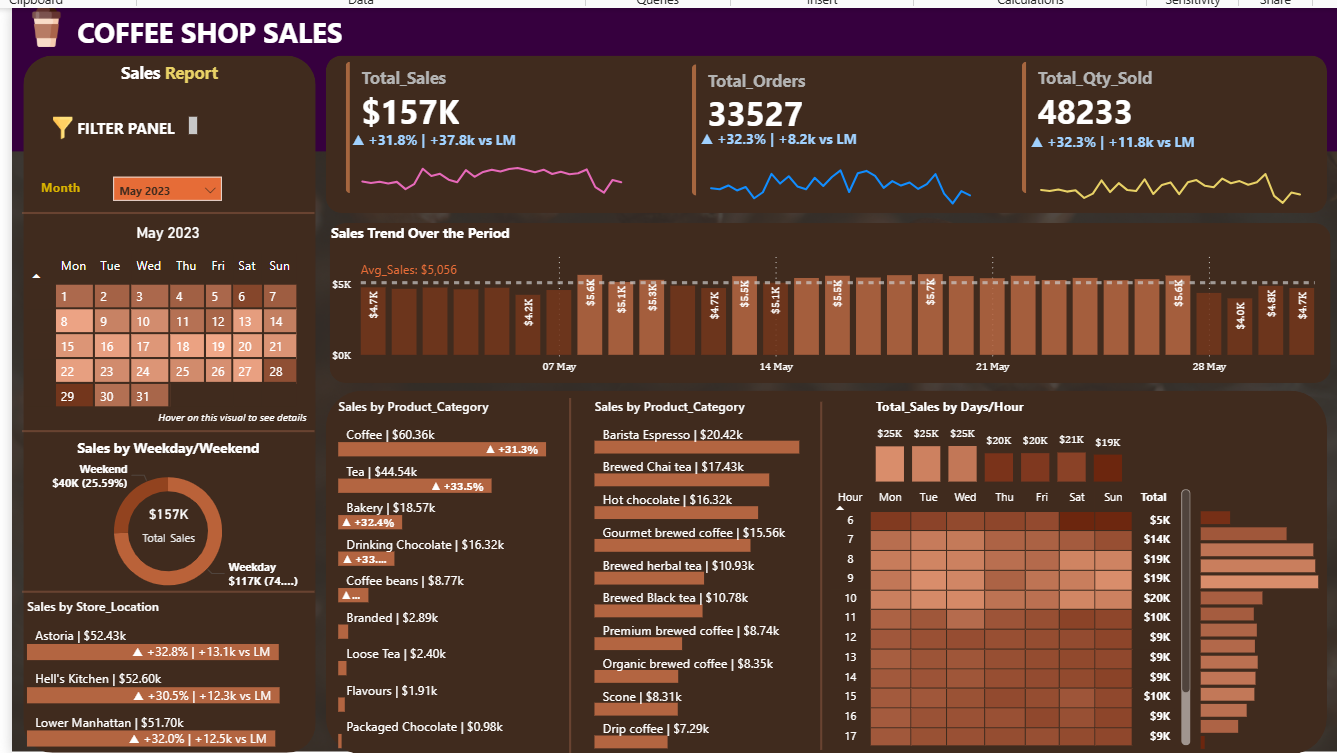

The page's visual inventory and layout, read from the dashboard file:
{"tool":"powerbi","page":{"name":"Coffee shop sales dashboard","canvas":[1280,720],"ordinal":0},"visuals":[{"type":"shape","box":[0,0,1280,138.8],"z":0},{"type":"shape","box":[0,45.8,282.3,673.2],"z":1000},{"type":"shape","box":[302.8,45.8,966.4,152],"z":2000},{"type":"textbox","box":[57.9,0,287.1,45.8],"z":3000},{"type":"cardVisual","fields":{"Data":["Measure_Table.Total_Sales"]},"box":[305.2,35,300.4,161.7],"z":4000,"group":"g1"},{"type":"cardVisual","fields":{"Data":["Measure_Table.Total_Qty_Sold"]},"box":[957.9,35,300.4,161.7],"z":4000,"group":"g3"},{"type":"cardVisual","fields":{"Data":["Measure_Table.Total_Orders"]},"box":[639.4,37.4,300.4,161.7],"z":4000,"group":"g2"},{"type":"slicer","fields":{"Values":["DATE_TABLE.Month Year"]},"box":[92.9,158,114.6,33.8],"z":4000},{"type":"group","id":"g1","title":"Group 1","box":[305.2,35,300.4,162.9],"z":5000},{"type":"lineChart","fields":{"Category":["DATE_TABLE.Date.Variation.Date Hierarchy.Year","DATE_TABLE.Date.Variation.Date Hierarchy.Quarter","DATE_TABLE.Date.Variation.Date Hierarchy.Month","DATE_TABLE.Date.Variation.Date Hierarchy.Day"],"Y":["Measure_Table.Total_Orders"]},"box":[659.8,116.6,279.9,78.4],"z":5001,"group":"g2"},{"type":"lineChart","fields":{"Y":["Measure_Table.Total_Sales"],"Category":["DATE_TABLE.Date.Variation.Date Hierarchy.Year","DATE_TABLE.Date.Variation.Date Hierarchy.Quarter","DATE_TABLE.Date.Variation.Date Hierarchy.Month","DATE_TABLE.Date.Variation.Date Hierarchy.Day"]},"box":[323.5,118.4,279.9,79.6],"z":5001,"group":"g1"},{"type":"lineChart","fields":{"Category":["DATE_TABLE.Date.Variation.Date Hierarchy.Year","DATE_TABLE.Date.Variation.Date Hierarchy.Quarter","DATE_TABLE.Date.Variation.Date Hierarchy.Month","DATE_TABLE.Date.Variation.Date Hierarchy.Day"],"Y":["Measure_Table.Total_Qty_Sold"]},"box":[978.4,119.5,279.9,78.4],"z":5001,"group":"g3"},{"type":"group","id":"g2","title":"Group 1","box":[639.4,37.4,300.4,161.7],"z":6000},{"type":"group","id":"g3","title":"Group 1","box":[957.9,35,300.4,162.9],"z":7000},{"type":"pivotTable","fields":{"Columns":["DATE_TABLE.Day_Name"],"Values":["Min(DATE_TABLE.Day_number)"],"Rows":["DATE_TABLE.Week_Num"]},"box":[9.7,231.6,282.3,183.4],"z":8000},{"type":"card","fields":{"Values":["Min(DATE_TABLE.Month Year)"]},"box":[103.8,203.9,94.1,27.7],"z":9000},{"type":"card","fields":{"Values":["Measure_Table.Foot_Note"]},"box":[115.8,382.4,194.2,26.5],"z":10000},{"type":"shape","box":[9.7,401.7,282.3,13.3],"z":11000},{"type":"shape","box":[9.7,191.8,282.3,12.1],"z":12000},{"type":"donutChart","title":"Sales by Weekday/Weekend","fields":{"Category":["DATE_TABLE.Weekday/Weekend"],"Y":["Measure_Table.Total_Sales"]},"box":[9.7,415,282.3,162.9],"z":13000},{"type":"card","fields":{"Values":["Measure_Table.Total_Sales"]},"box":[111,472.9,80.8,48.3],"z":14000},{"type":"shape","box":[9.7,557.4,282.3,12.1],"z":15000},{"type":"clusteredBarChart","title":"Sales by Store_Location","fields":{"Category":["Transactions.store_location"],"Y":["Measure_Table.Place_holder","Measure_Table.Total_Sales"]},"box":[9.7,569.4,282.3,150.8],"z":16000},{"type":"shape","box":[306.4,207.5,966.4,154.4],"z":17000},{"type":"columnChart","title":"Sales Trend Over the Period","fields":{"Category":["Transactions.transaction_date"],"Y":["Measure_Table.Total_Sales"]},"box":[302.8,207.5,965.2,154.4],"z":18000},{"type":"shape","box":[302.8,369.2,966.4,351.1],"z":19000},{"type":"clusteredBarChart","title":"Sales by Product_Category","fields":{"Y":["Measure_Table.Place_holder","Measure_Table.Total_Sales"],"Category":["Transactions.product_category"]},"box":[310.1,376.4,242.5,343.8],"z":20000},{"type":"shape","box":[520,376.4,37.4,343.8],"z":21000},{"type":"shape","box":[763,380.1,37,336.2],"z":22000},{"type":"clusteredBarChart","title":"Sales by Product_Category","fields":{"Y":["Measure_Table.Place_holder","Measure_Table.Total_Sales"],"Category":["Transactions.product_type"]},"box":[557.4,376.4,242.5,343.8],"z":23000},{"type":"pivotTable","fields":{"Rows":["Transactions.Hour"],"Columns":["DATE_TABLE.Day_Name"],"Values":["Measure_Table.Total_Sales"]},"box":[785.4,459.7,357.1,257],"z":23001},{"type":"barChart","fields":{"Category":["Transactions.Hour"],"Y":["Measure_Table.Total_Sales"]},"box":[1142.5,472.9,125.5,247.3],"z":23002},{"type":"columnChart","title":"Total_Sales by Days/Hour","fields":{"Y":["Measure_Table.Total_Sales"],"Category":["DATE_TABLE.Day_Name"]},"box":[828.8,376.4,248.5,86.9],"z":23003},{"type":"textbox","box":[22.9,158,70,33.8],"z":23004},{"type":"textbox","box":[90.5,45.8,123.1,38.6],"z":23005},{"type":"textbox","box":[57.9,100.1,125.5,26.5],"z":23006},{"type":"image","box":[22.9,105,51.9,21.7],"z":23007},{"type":"image","box":[0,0,66.4,37.4],"z":23008}]}

Visuals, with their boxes on the page's 1280x720 design canvas (x1, y1, x2, y2). These are canvas units, not pixel positions in the 1337x753 screenshot, which may show the page scaled, cropped or inside an application window:
shape: crop(0, 0, 1280, 139)
shape: crop(0, 46, 282, 719)
shape: crop(303, 46, 1269, 198)
textbox: crop(58, 0, 345, 46)
cardVisual - Measure_Table.Total_Sales: crop(305, 35, 606, 197)
cardVisual - Measure_Table.Total_Qty_Sold: crop(958, 35, 1258, 197)
cardVisual - Measure_Table.Total_Orders: crop(639, 37, 940, 199)
slicer - DATE_TABLE.Month Year: crop(93, 158, 208, 192)
"Group 1" group: crop(305, 35, 606, 198)
lineChart - DATE_TABLE.Date.Variation.Date Hierarchy.Year x DATE_TABLE.Date.Variation.Date Hierarchy.Quarter: crop(660, 117, 940, 195)
lineChart - Measure_Table.Total_Sales x DATE_TABLE.Date.Variation.Date Hierarchy.Year: crop(324, 118, 603, 198)
lineChart - DATE_TABLE.Date.Variation.Date Hierarchy.Year x DATE_TABLE.Date.Variation.Date Hierarchy.Quarter: crop(978, 120, 1258, 198)
"Group 1" group: crop(639, 37, 940, 199)
"Group 1" group: crop(958, 35, 1258, 198)
pivotTable - DATE_TABLE.Day_Name x Min(DATE_TABLE.Day_number): crop(10, 232, 292, 415)
card - Min(DATE_TABLE.Month Year): crop(104, 204, 198, 232)
card - Measure_Table.Foot_Note: crop(116, 382, 310, 409)
shape: crop(10, 402, 292, 415)
shape: crop(10, 192, 292, 204)
"Sales by Weekday/Weekend" donutChart: crop(10, 415, 292, 578)
card - Measure_Table.Total_Sales: crop(111, 473, 192, 521)
shape: crop(10, 557, 292, 570)
"Sales by Store_Location" clusteredBarChart: crop(10, 569, 292, 720)
shape: crop(306, 208, 1273, 362)
"Sales Trend Over the Period" columnChart: crop(303, 208, 1268, 362)
shape: crop(303, 369, 1269, 720)
"Sales by Product_Category" clusteredBarChart: crop(310, 376, 553, 720)
shape: crop(520, 376, 557, 720)
shape: crop(763, 380, 800, 716)
"Sales by Product_Category" clusteredBarChart: crop(557, 376, 800, 720)
pivotTable - Transactions.Hour x DATE_TABLE.Day_Name: crop(785, 460, 1142, 717)
barChart - Transactions.Hour x Measure_Table.Total_Sales: crop(1142, 473, 1268, 720)
"Total_Sales by Days/Hour" columnChart: crop(829, 376, 1077, 463)
textbox: crop(23, 158, 93, 192)
textbox: crop(90, 46, 214, 84)
textbox: crop(58, 100, 183, 127)
image: crop(23, 105, 75, 127)
image: crop(0, 0, 66, 37)
